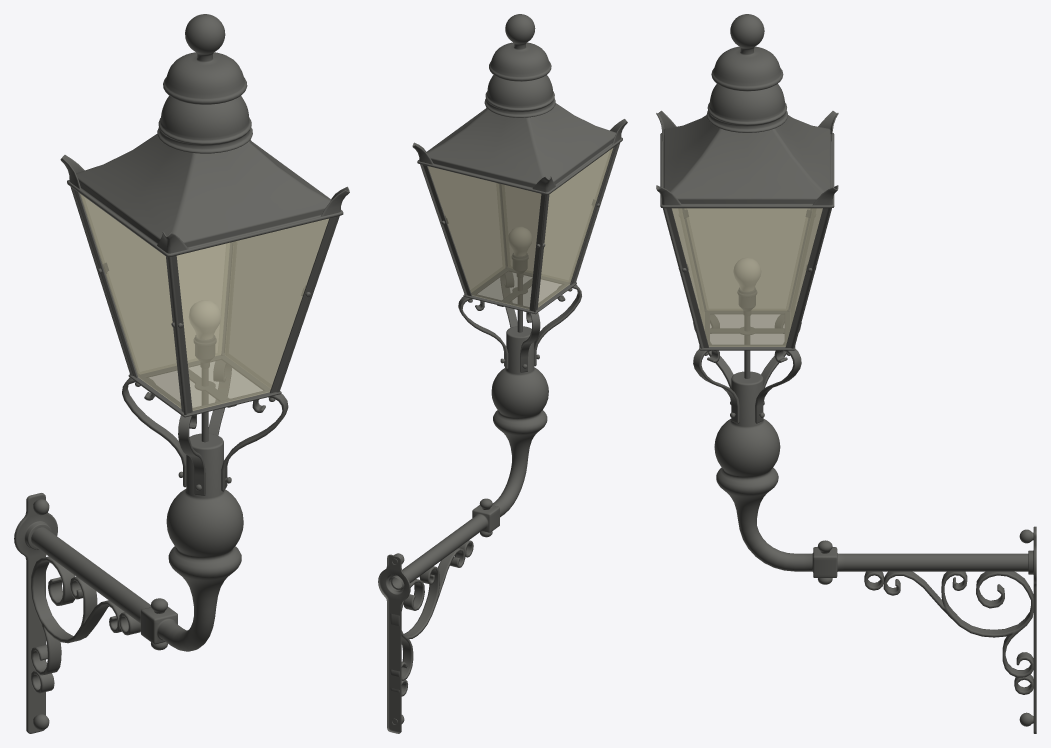
The model's file is street_lamp_02.gltf.
The picture shows the model from 3 angles, left to right: view 1: azimuth 30°, elevation 25°; view 2: azimuth 150°, elevation 25°; view 3: azimuth 270°, elevation 25°; orthographic projection. The views are drawn at different scales.
Visible parts, largest first — view 1: street_lamp_02; view 2: street_lamp_02; view 3: street_lamp_02.
Boxes of the visible parts, x1=… form: street_lamp_02: x1=14, y1=14, x2=349, y2=733; street_lamp_02: x1=378, y1=14, x2=627, y2=733; street_lamp_02: x1=656, y1=14, x2=1036, y2=733.
Bounding box in the file's own units: 0.3865 × 1.68 × 0.8068.
